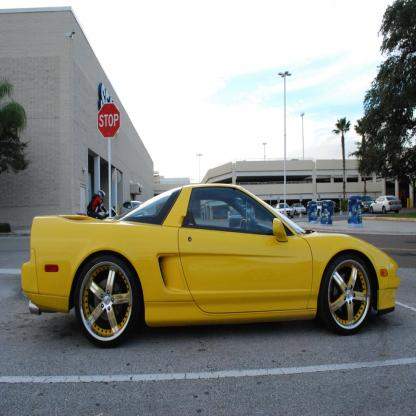Car: (22, 184, 403, 349), (230, 200, 256, 230), (371, 198, 404, 216), (275, 205, 295, 220), (360, 195, 375, 214), (294, 204, 308, 217), (318, 201, 326, 217)
